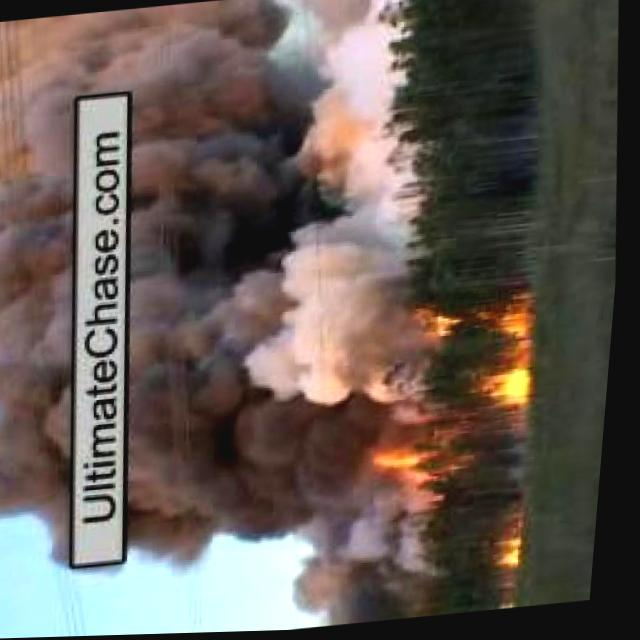helmet: (409, 282, 547, 421), (359, 447, 449, 478), (497, 534, 533, 575)
no_helmet: (91, 0, 432, 570), (0, 13, 113, 579)
